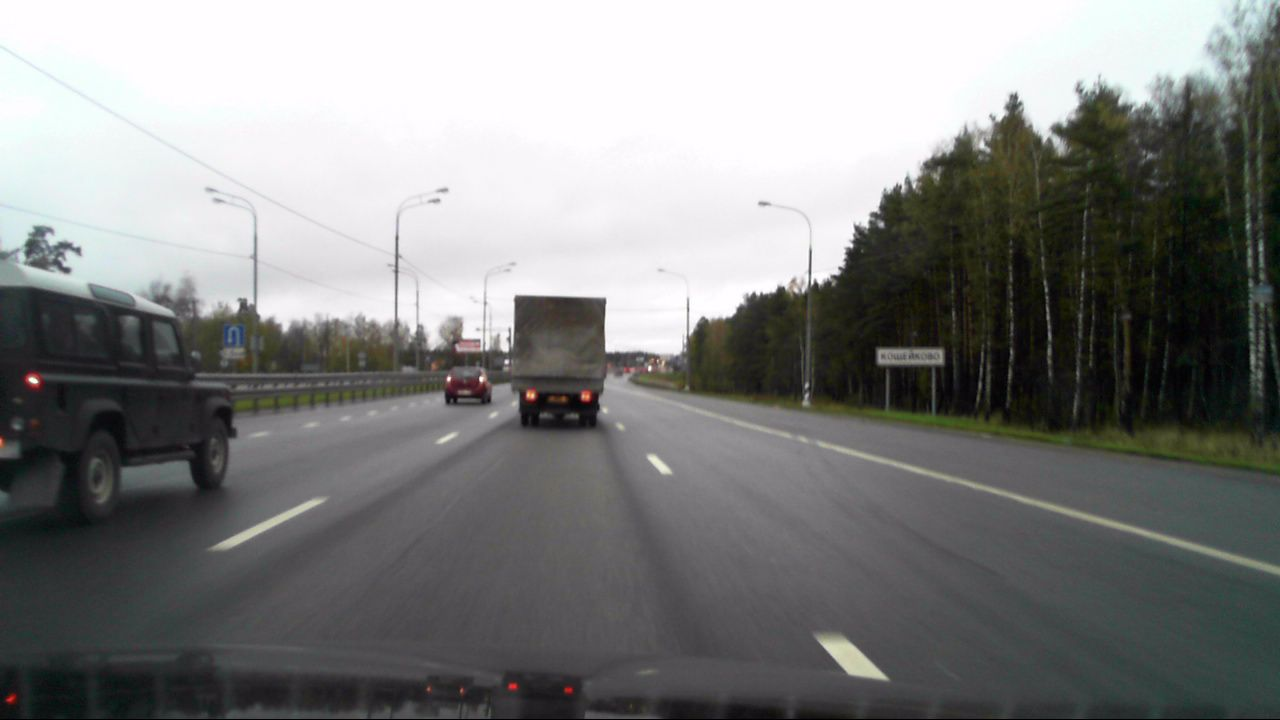U-turn: (223, 325, 243, 347)
